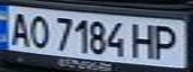1: (69, 16, 90, 53)
4: (106, 19, 130, 57)
7: (51, 15, 72, 52)
8: (87, 18, 109, 56)
A: (3, 9, 33, 46)
H: (127, 20, 160, 60)
O: (24, 12, 51, 50)
P: (148, 22, 184, 61)
